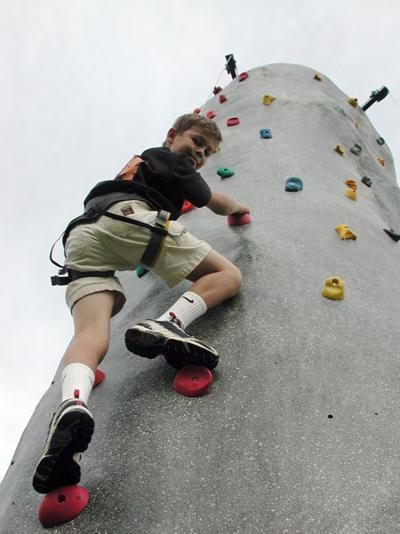person: (31, 110, 252, 497)
